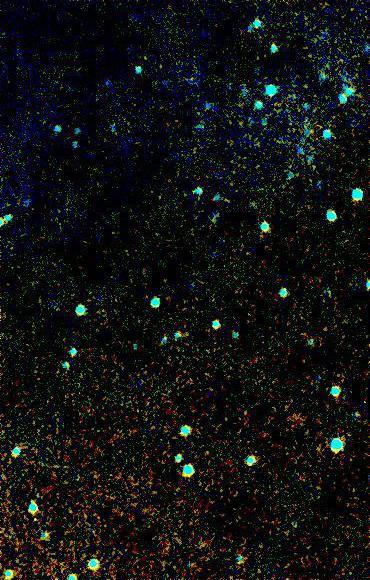star: (297, 118, 327, 148)
